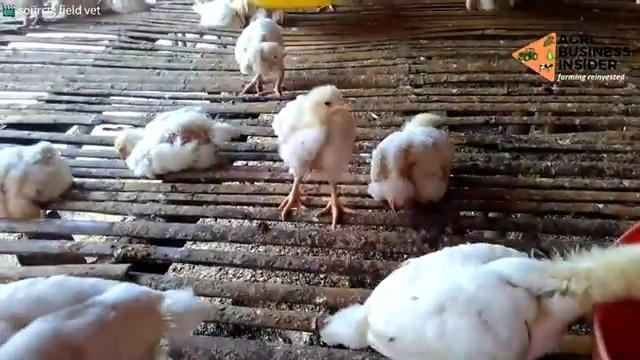Normal: (276, 83, 357, 224), (117, 111, 235, 179), (370, 115, 447, 210)
